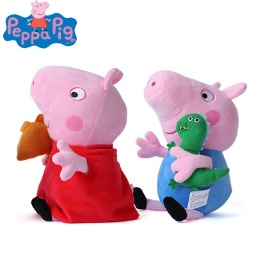Peppa: (16, 62, 141, 226)
